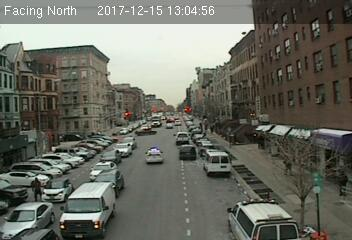car: (1, 202, 55, 236), (94, 168, 124, 196), (39, 179, 73, 201), (89, 160, 116, 179), (177, 145, 197, 160), (99, 150, 120, 164), (114, 143, 134, 156), (174, 131, 190, 143)
police: (224, 198, 301, 240), (143, 146, 165, 164)
truck: (60, 183, 116, 239), (204, 151, 231, 177)
